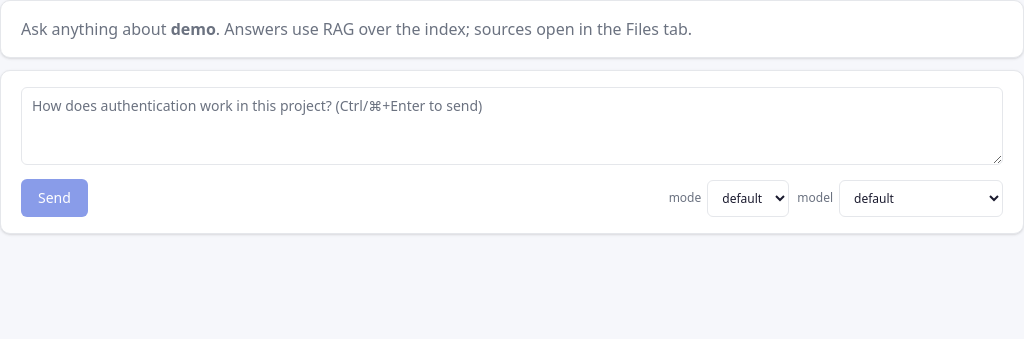
it: ChatPanel mode/model selector › sends the selected mode and model with chatStream
This screenshot has width=1024, height=339.
Select "agent" in the dropdown labelled "mode" at (748, 198), box x1=707 y1=180 x2=789 y2=216
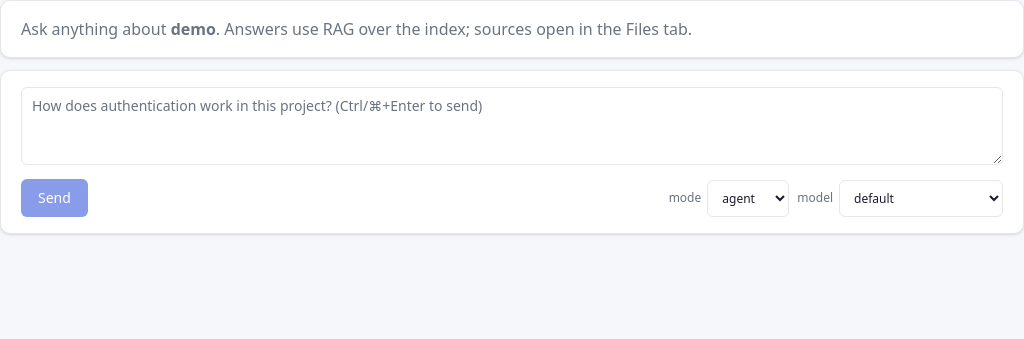
Select "model-b (openrouter)" in the dropdown labelled "model" at (921, 198), box x1=839 y1=180 x2=1003 y2=216
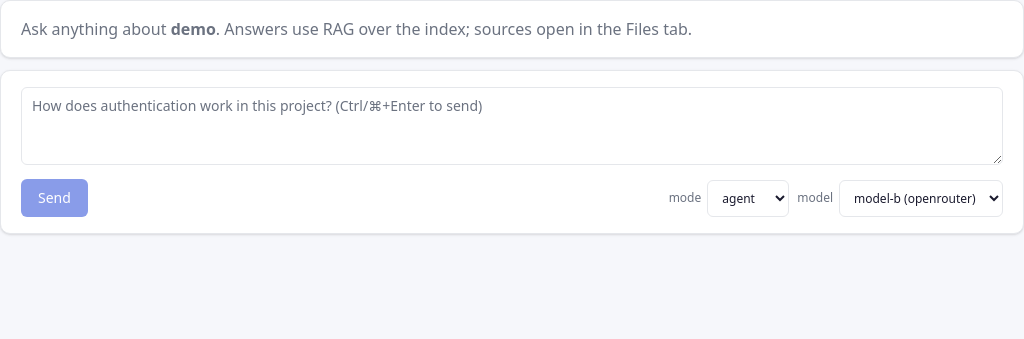
Replace the text in the text box with placeholder "How does authentication work" with "q" at (512, 126), box x1=21 y1=87 x2=1003 y2=165
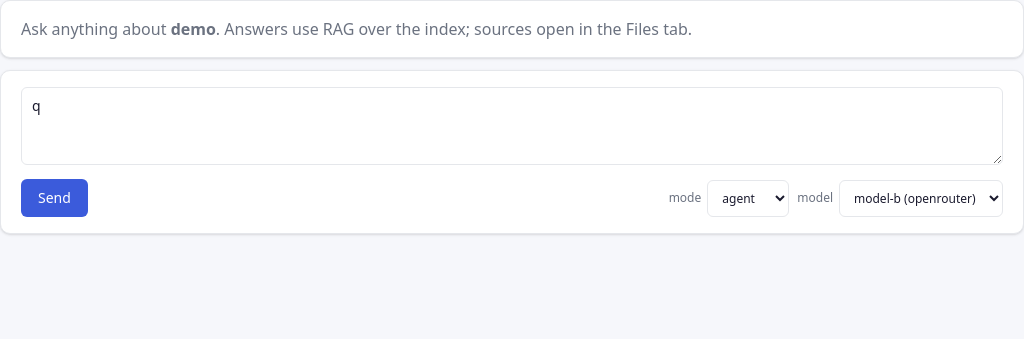
Click the button "Send".
click(54, 198)  # box x1=21 y1=179 x2=88 y2=217
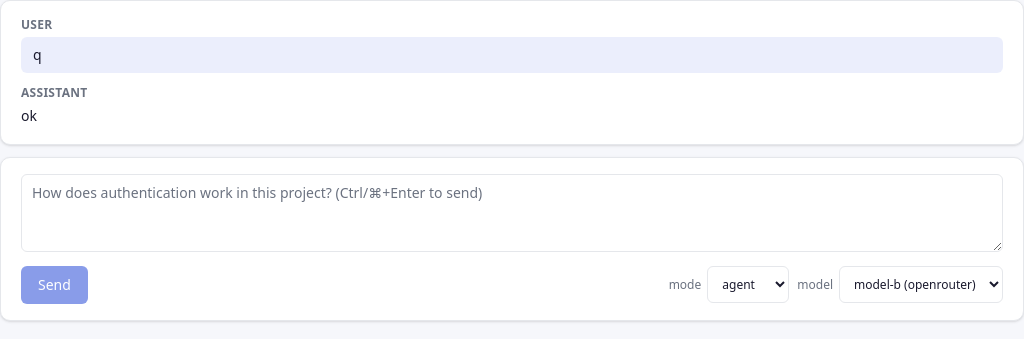
Now the text "ok" is shown, box x1=21 y1=106 x2=37 y2=125
